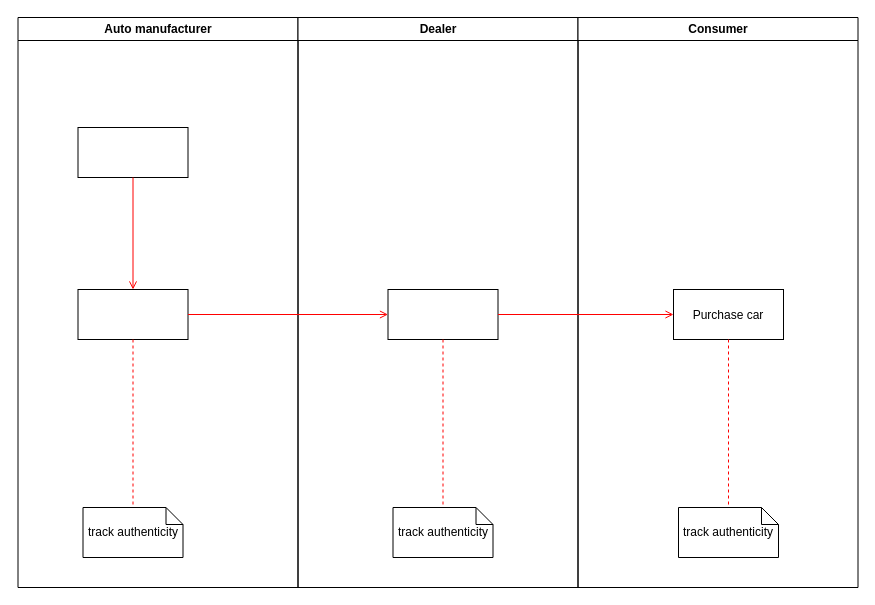
Image size: 875x605. Some labels were removed from this diagram. The centre of each missing label's shape, as x and y in pixels:
"Buy car" goes at (x=442, y=314).
"Car assembled" goes at (x=132, y=152).
"Ship car" goes at (x=132, y=314).
